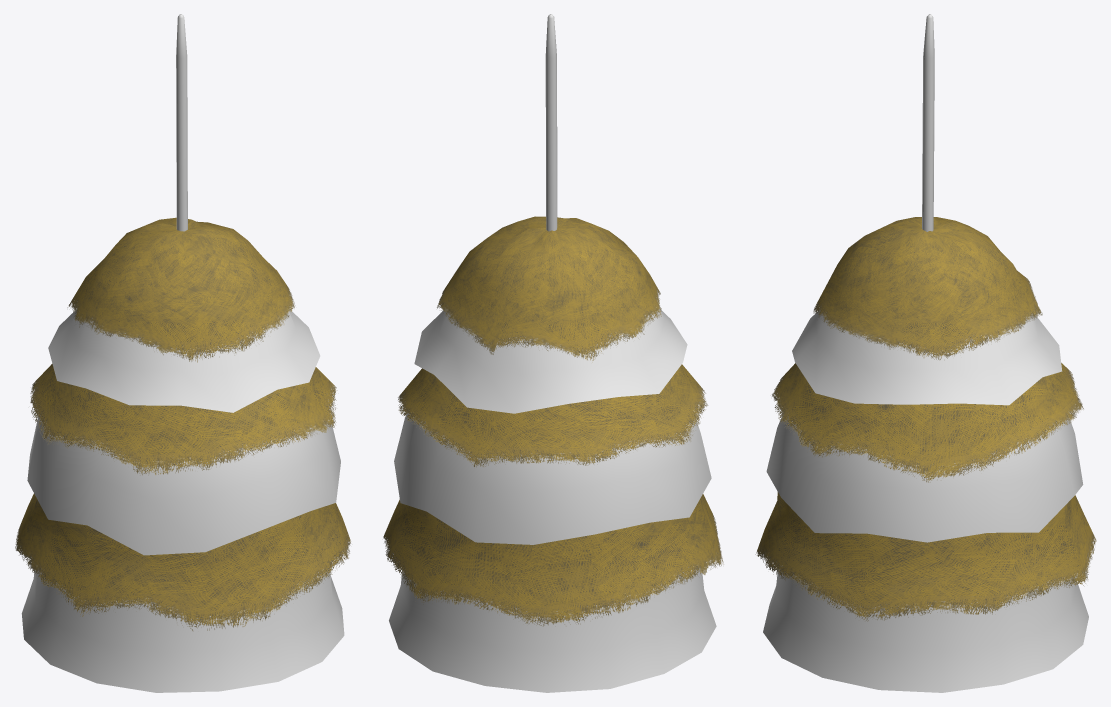
File: HayStack_01.fbx
3 views of the same model, side by side, from view 1: azimuth 30°, elevation 25°; view 2: azimuth 150°, elevation 25°; view 3: azimuth 270°, elevation 25° (orthographic).
Visible parts, largest first — view 1: haystack_LOD0, haystackStick; view 2: haystack_LOD0, haystackStick; view 3: haystack_LOD0, haystackStick.
Part boxes in pixels (bbox=[...]): haystack_LOD0: bbox=[15, 217, 350, 692]; haystackStick: bbox=[176, 14, 187, 231]; haystack_LOD0: bbox=[383, 216, 723, 692]; haystackStick: bbox=[545, 14, 557, 231]; haystack_LOD0: bbox=[755, 217, 1096, 692]; haystackStick: bbox=[922, 14, 934, 231].
Size of the model in its own units: 400 by 824 by 403.
